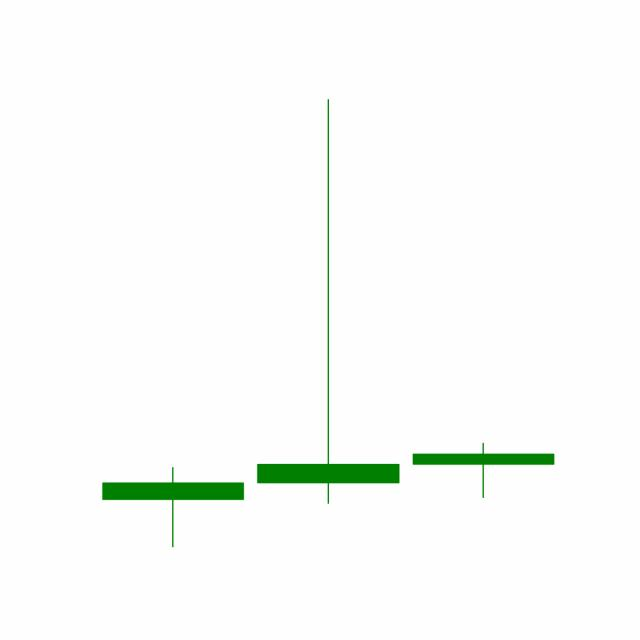Dragonfly Doji: (405, 442, 561, 499)
